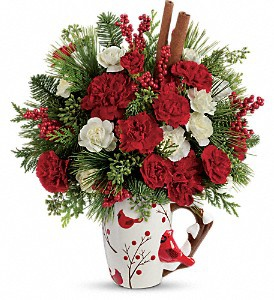flowerpot: (98, 182, 171, 290)
